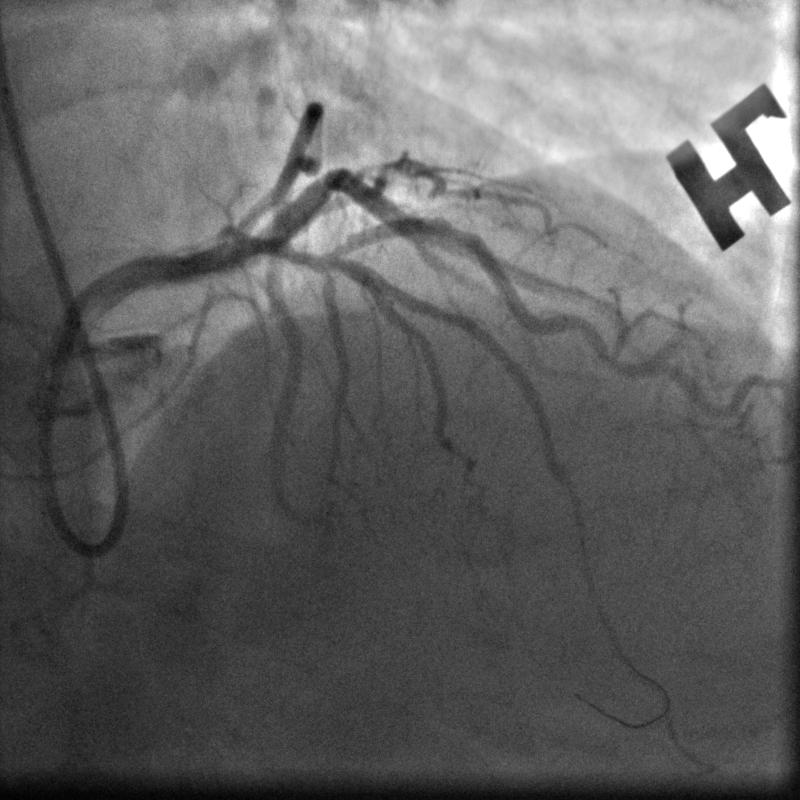Stenosis: (437, 212, 485, 268)
